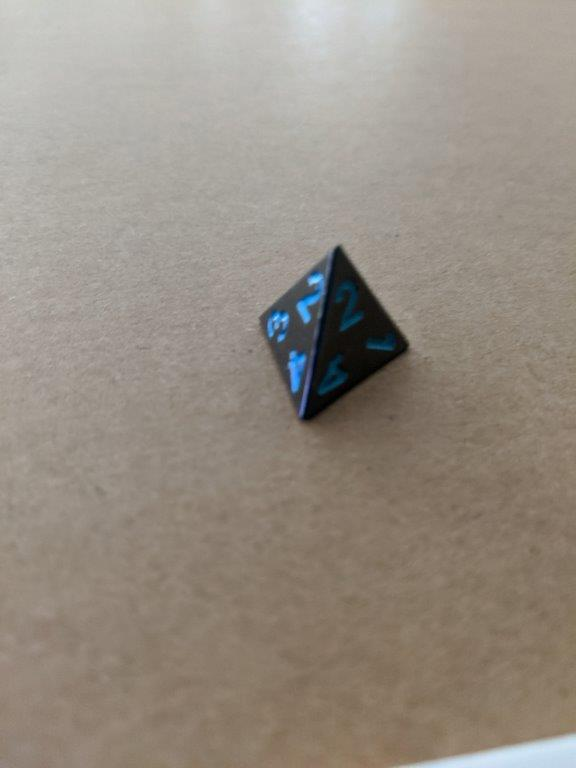d4-2: (257, 243, 413, 428)
